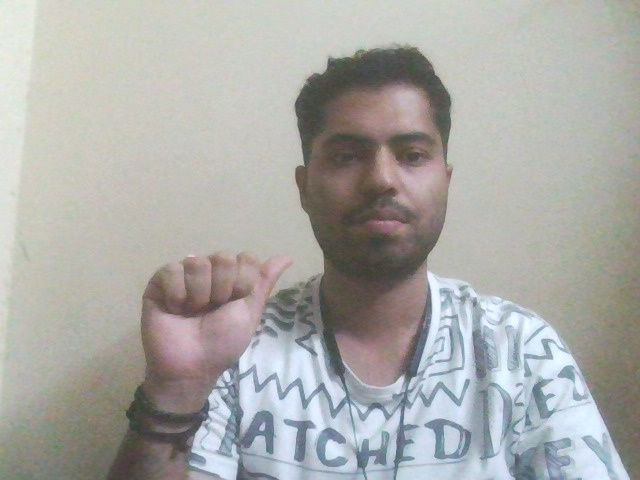A: (116, 234, 309, 396)
